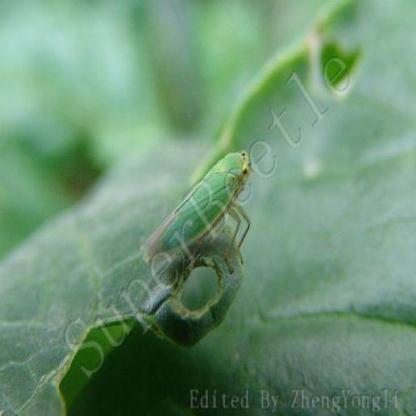Green-Leafhopper: (144, 146, 253, 284)
